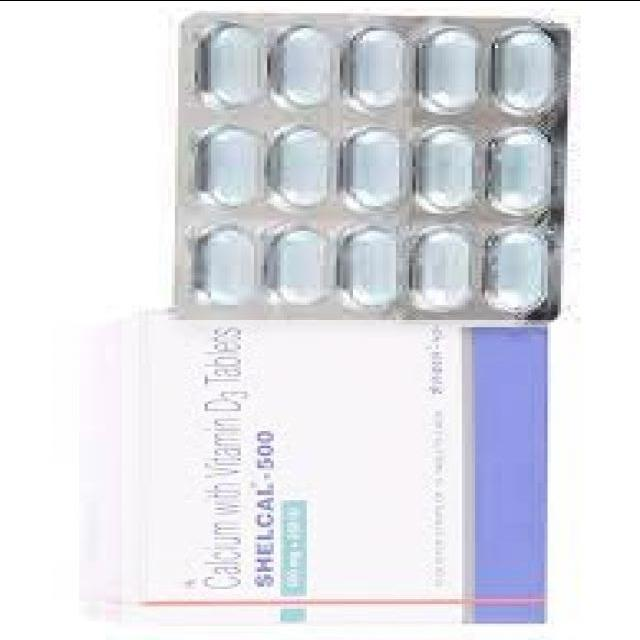authentic: (122, 314, 570, 637), (168, 0, 588, 319)
